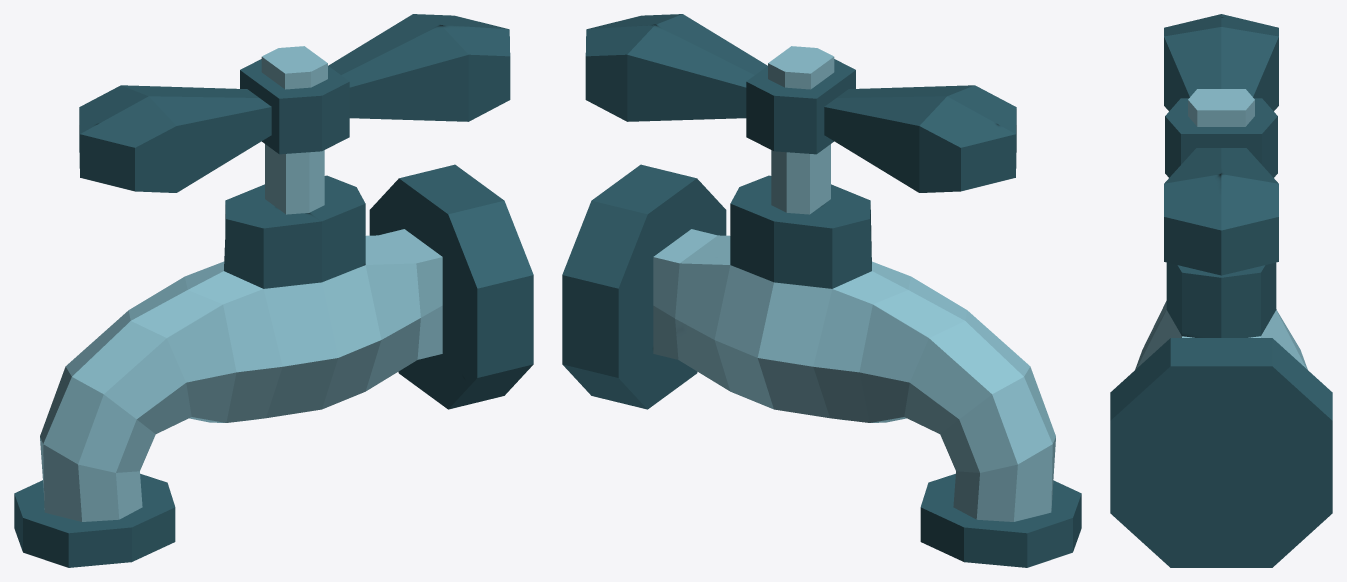
File: Pipe.fbx
The picture shows the model from 3 angles, left to right: view 1: azimuth 30°, elevation 25°; view 2: azimuth 150°, elevation 25°; view 3: azimuth 270°, elevation 25°; orthographic projection. The views are drawn at different scales.
Visible parts, largest first — view 1: Pipe; view 2: Pipe; view 3: Pipe.
Part boxes in pixels (x1,y1,x2,y2): Pipe: [14, 14, 533, 567]; Pipe: [562, 14, 1081, 567]; Pipe: [1110, 14, 1332, 567].
Size of the model in its own units: 294 by 246 by 113.
